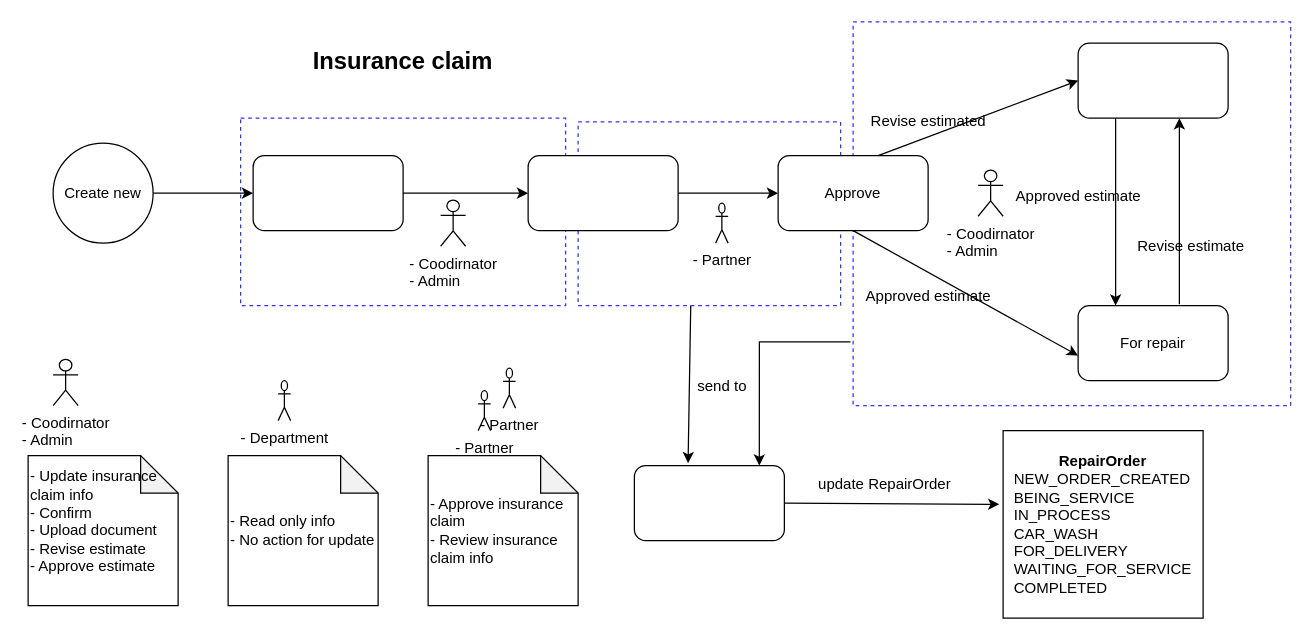
This 1313x640 diagram has some shape labels left out. Here are the shapes that lost their labels. From the top down, the centre of each, then its label:
At [1152,80]: "For revision".
At [327,192]: "Pending".
At [602,192]: "Confirmed".
At [708,502]: "DBM".
